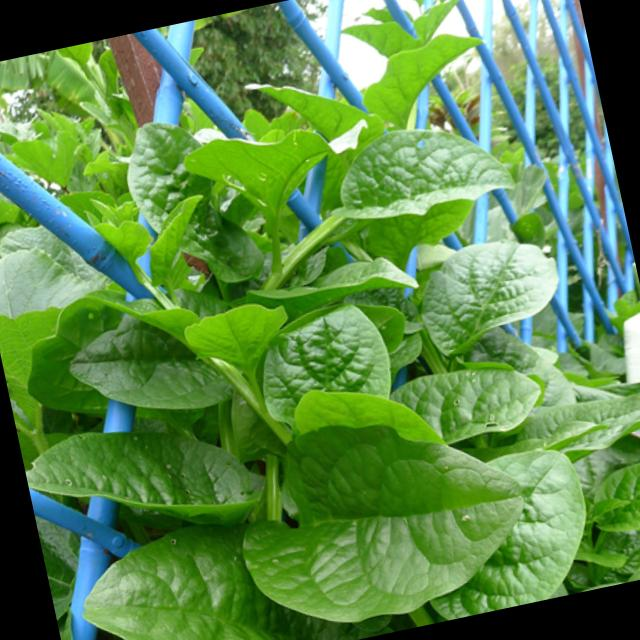Medicinal-Basale: (107, 14, 607, 640), (0, 240, 297, 640), (563, 371, 640, 586)
